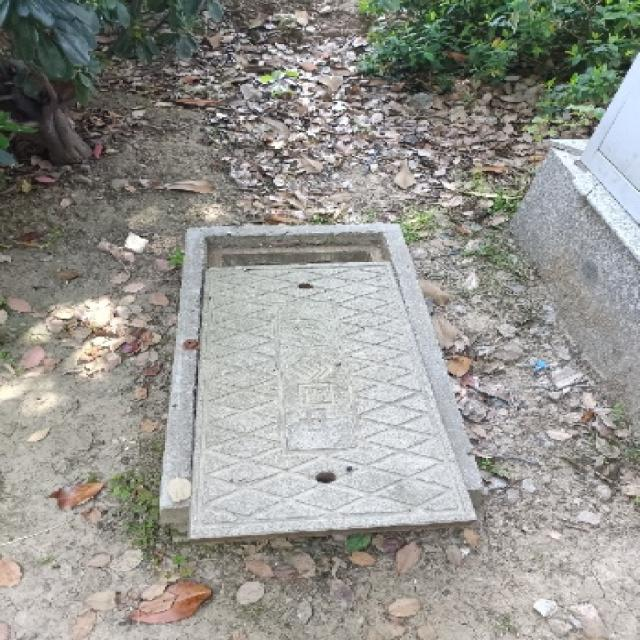Lose: (150, 212, 501, 566)
